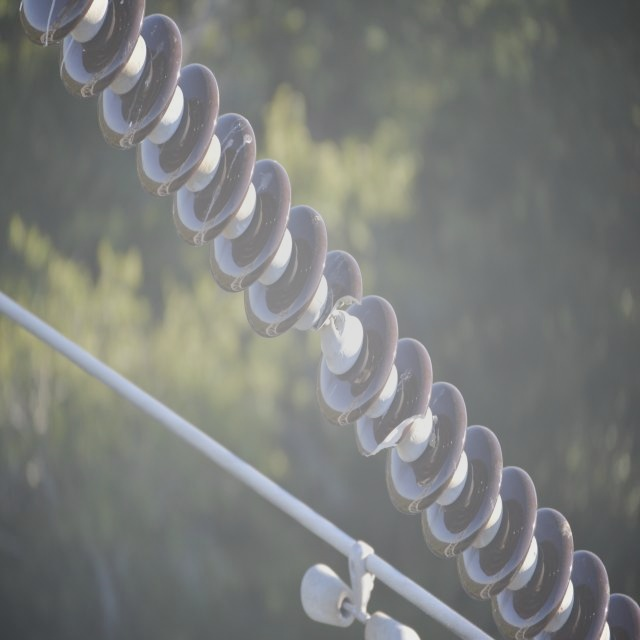broken: (358, 406, 431, 463), (304, 288, 364, 336)
insulator: (18, 1, 640, 640)
